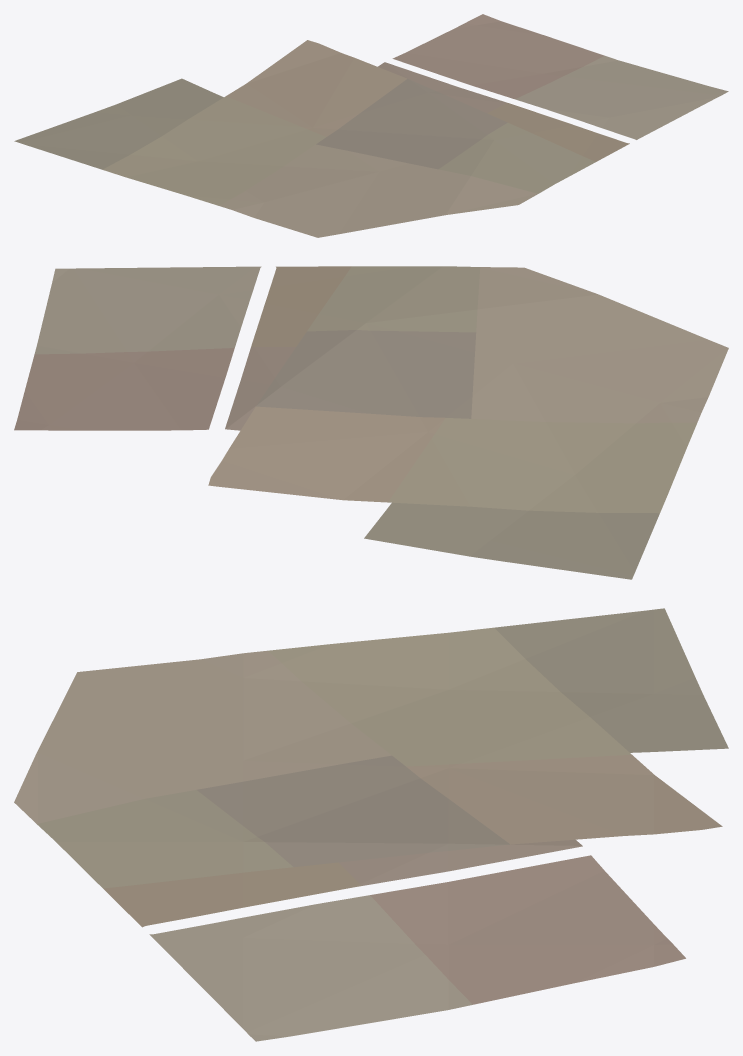
Rendered from farm_-2_14_soil.glb.
3 views of the same model, one above another, from view 1: azimuth 30°, elevation 25°; view 2: azimuth 150°, elevation 25°; view 3: azimuth 270°, elevation 25° (orthographic). The views are drawn at different scales.
Visible parts, largest first — view 1: geometry_0; view 2: geometry_0; view 3: geometry_0.
Boxes of the visible parts, box(x1,y1,x2,y2) form: geometry_0: box(14, 14, 728, 237); geometry_0: box(14, 266, 728, 579); geometry_0: box(14, 608, 728, 1041).
Size of the model in its own units: 406 by 12.79 by 279.
